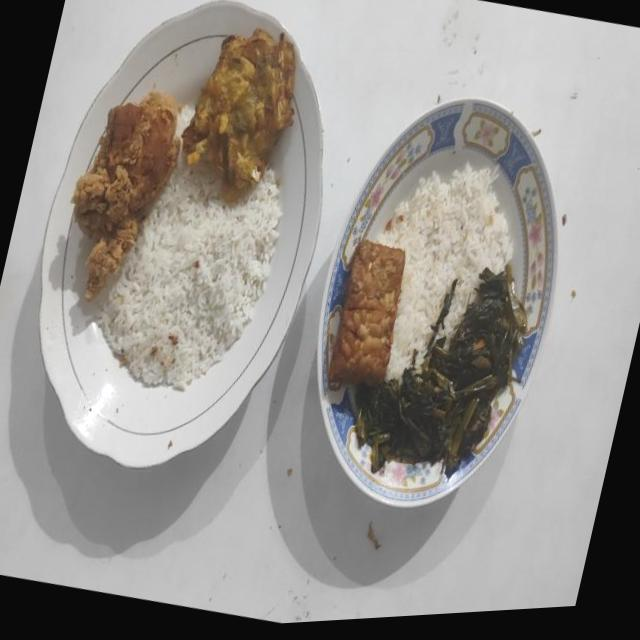nasi_putih: (97, 164, 281, 390), (374, 163, 513, 380)
tempe_goreng: (328, 240, 404, 386)
tumis_kangkung: (354, 264, 526, 478)
